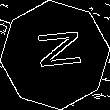N_W: (28, 33, 82, 77)
